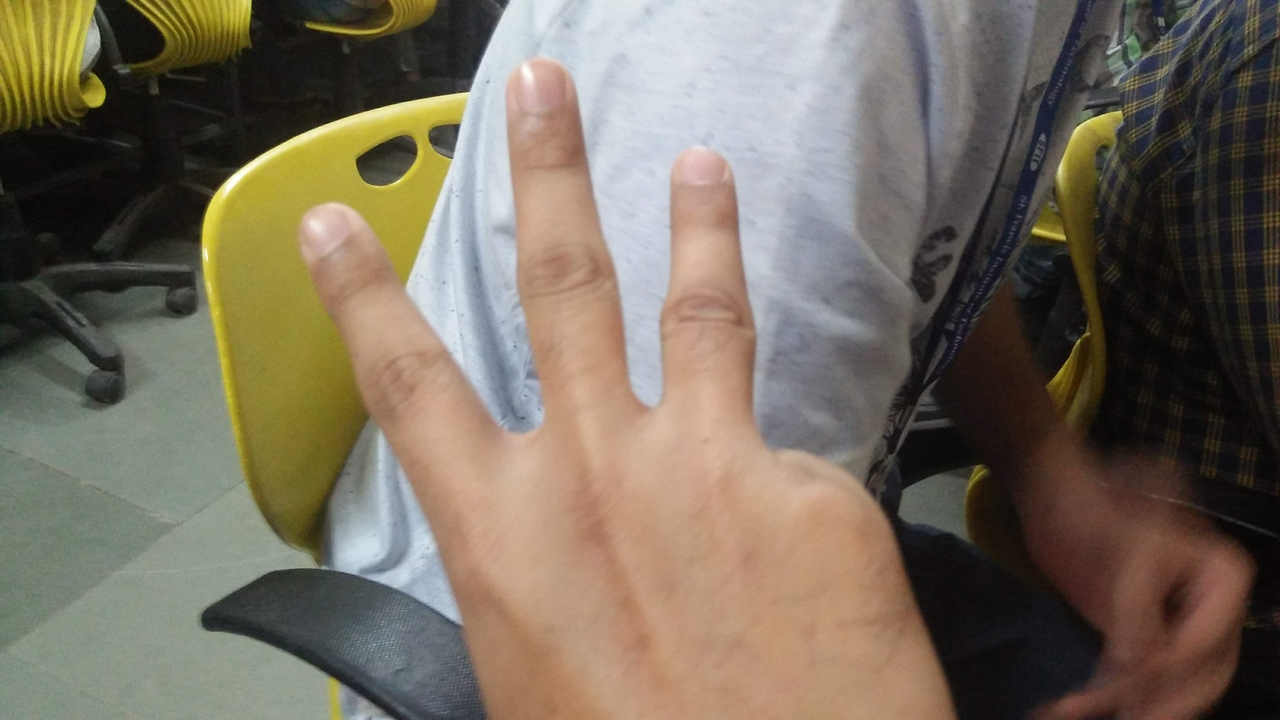fingertip: (492, 54, 578, 120), (290, 200, 368, 268), (664, 144, 738, 202)
